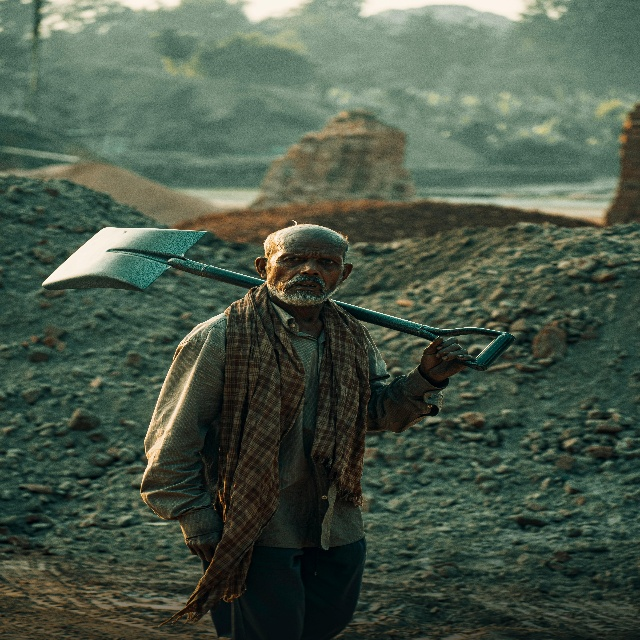Sin_guantes: (420, 337, 474, 381), (183, 532, 222, 564)
